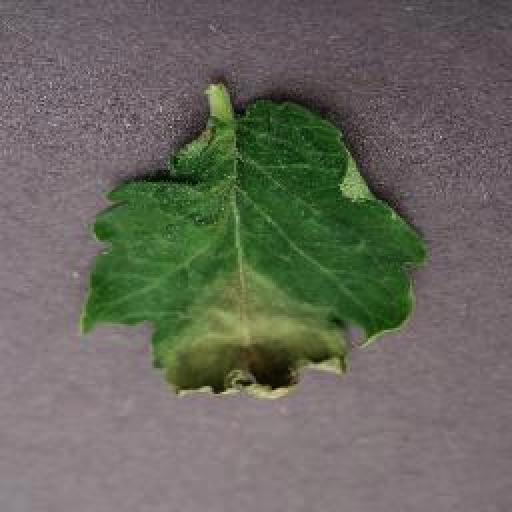disease_tomato: (85, 100, 431, 402)
